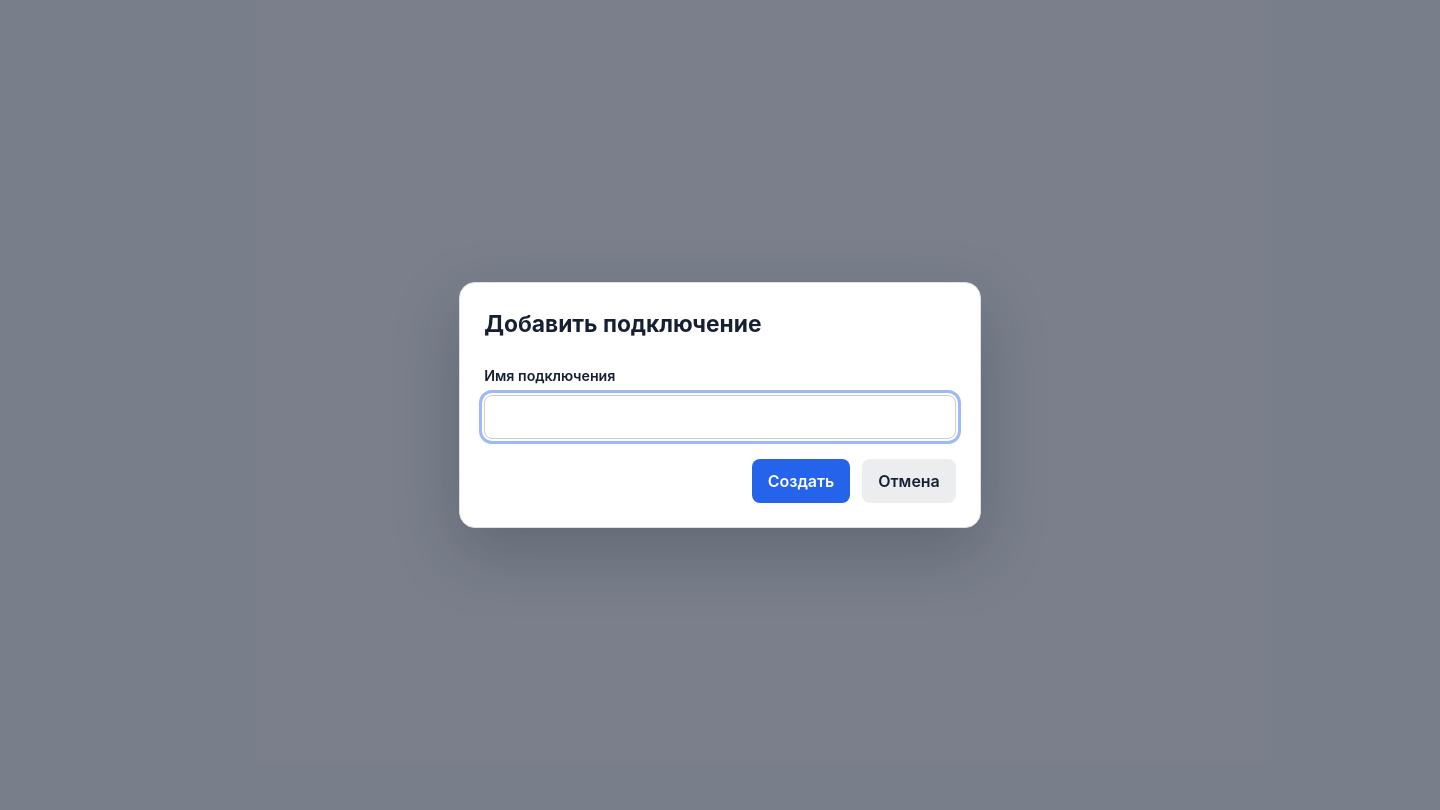
Scenario: create connection modal › creates once, refreshes immediately and shows a link in the same modal
The image size is (1440, 810).
Later steps or results of the test are not shown.
Type "  Телефон  " into the field labelled "Имя подключения".
click(720, 417); type("  Телефон  ")  # box [484,395,956,439]
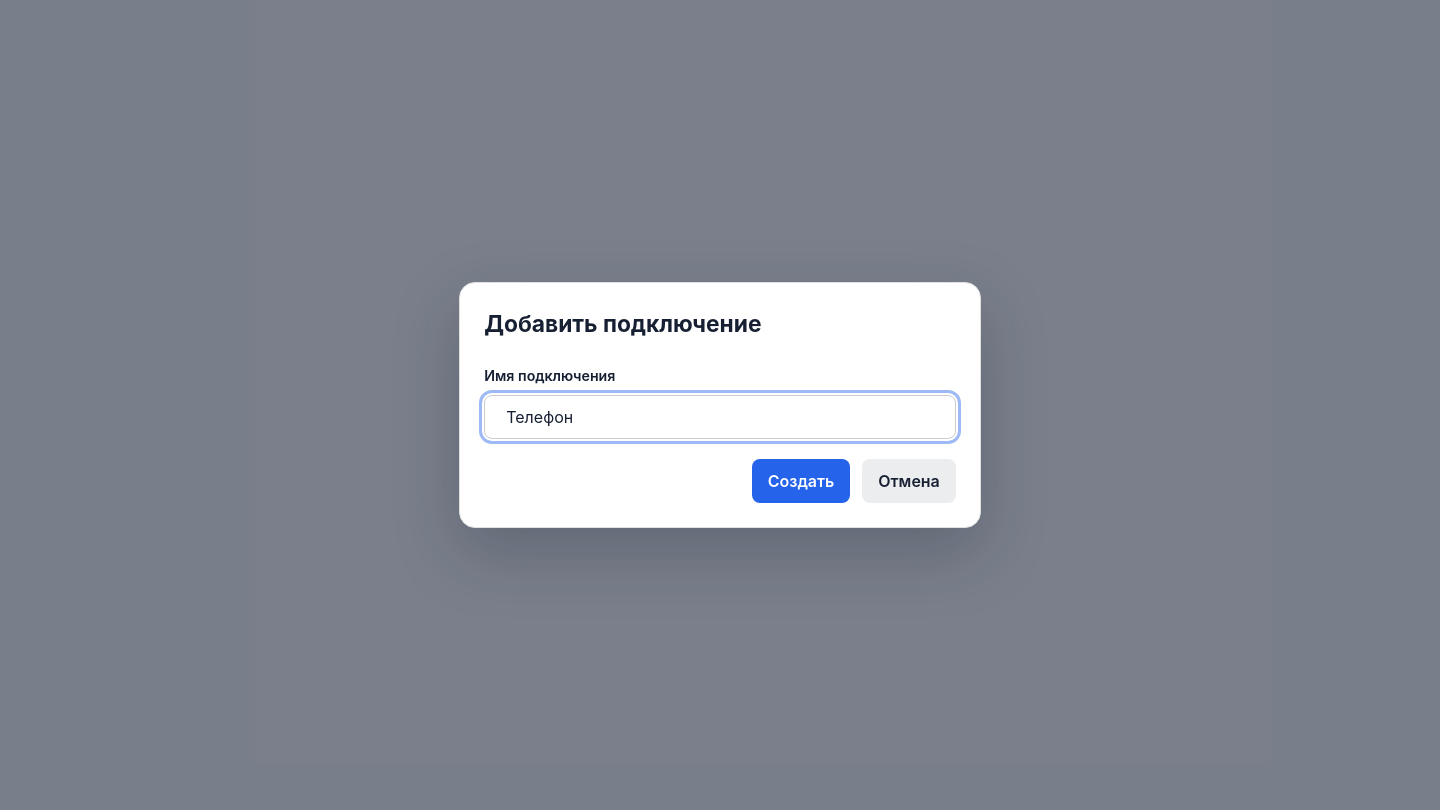
Click the button "Создать".
click(801, 481)  # box [752,459,850,503]
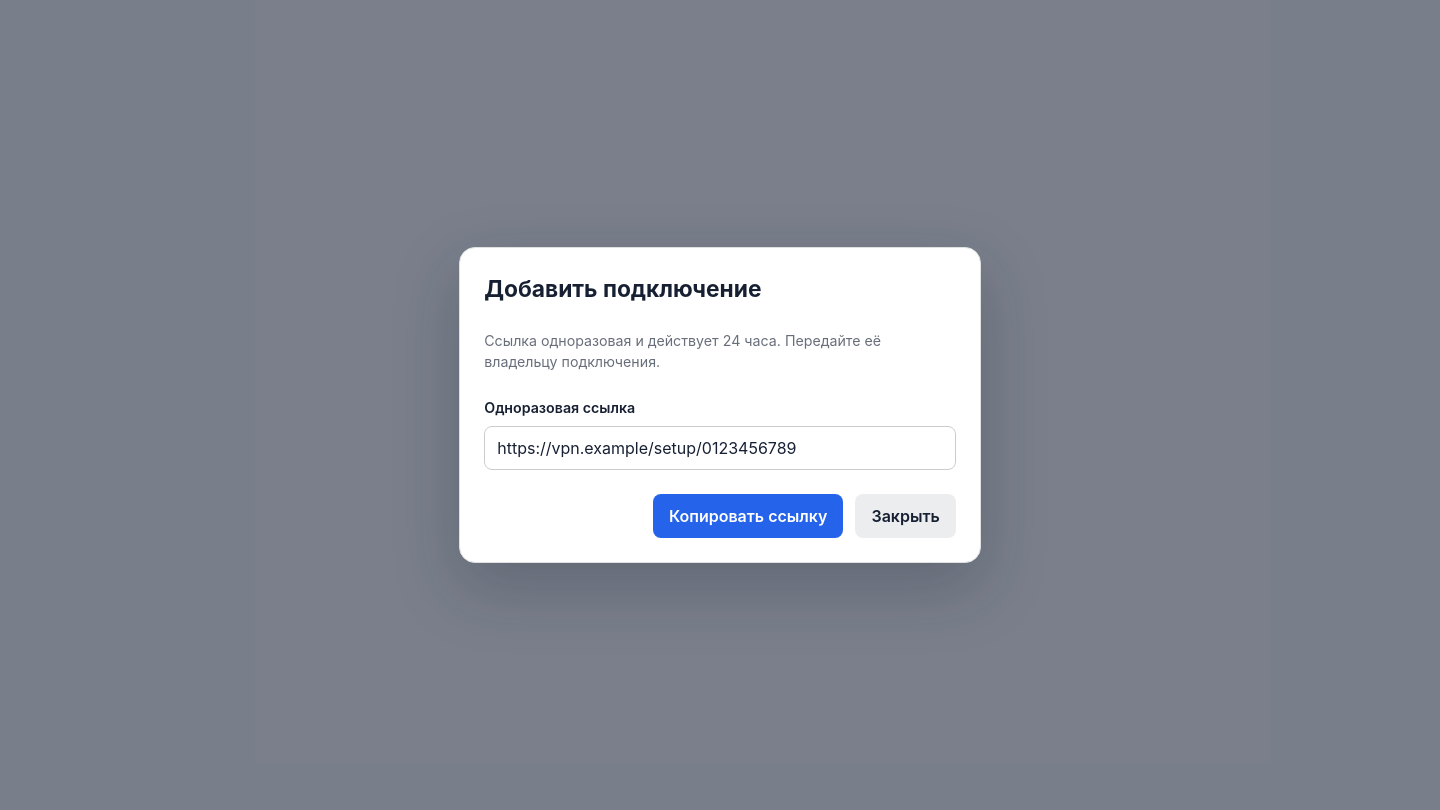
Expected: the field labelled "Одноразовая ссылка" holds "https://vpn.example/setup/0123456789", [484,426,956,470]
